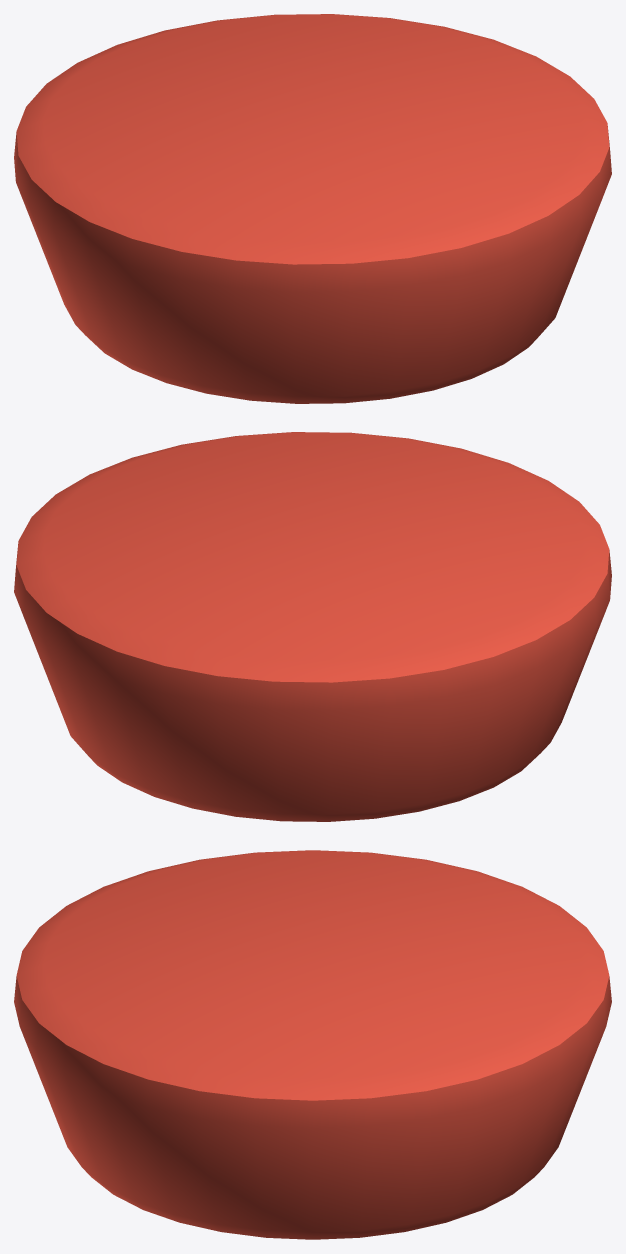
Rendered from FlaskLid.fbx.
The picture shows the model from 3 angles, top to bottom: view 1: azimuth 30°, elevation 25°; view 2: azimuth 150°, elevation 25°; view 3: azimuth 270°, elevation 25°; orthographic projection.
Visible parts, largest first — view 1: Lid.001; view 2: Lid.001; view 3: Lid.001.
Part boxes in pixels (bbox=[...]): Lid.001: bbox=[14, 14, 611, 403]; Lid.001: bbox=[14, 432, 611, 821]; Lid.001: bbox=[14, 850, 611, 1239].
Bounding box in the file's own units: 4.22 × 1.39 × 4.22.
